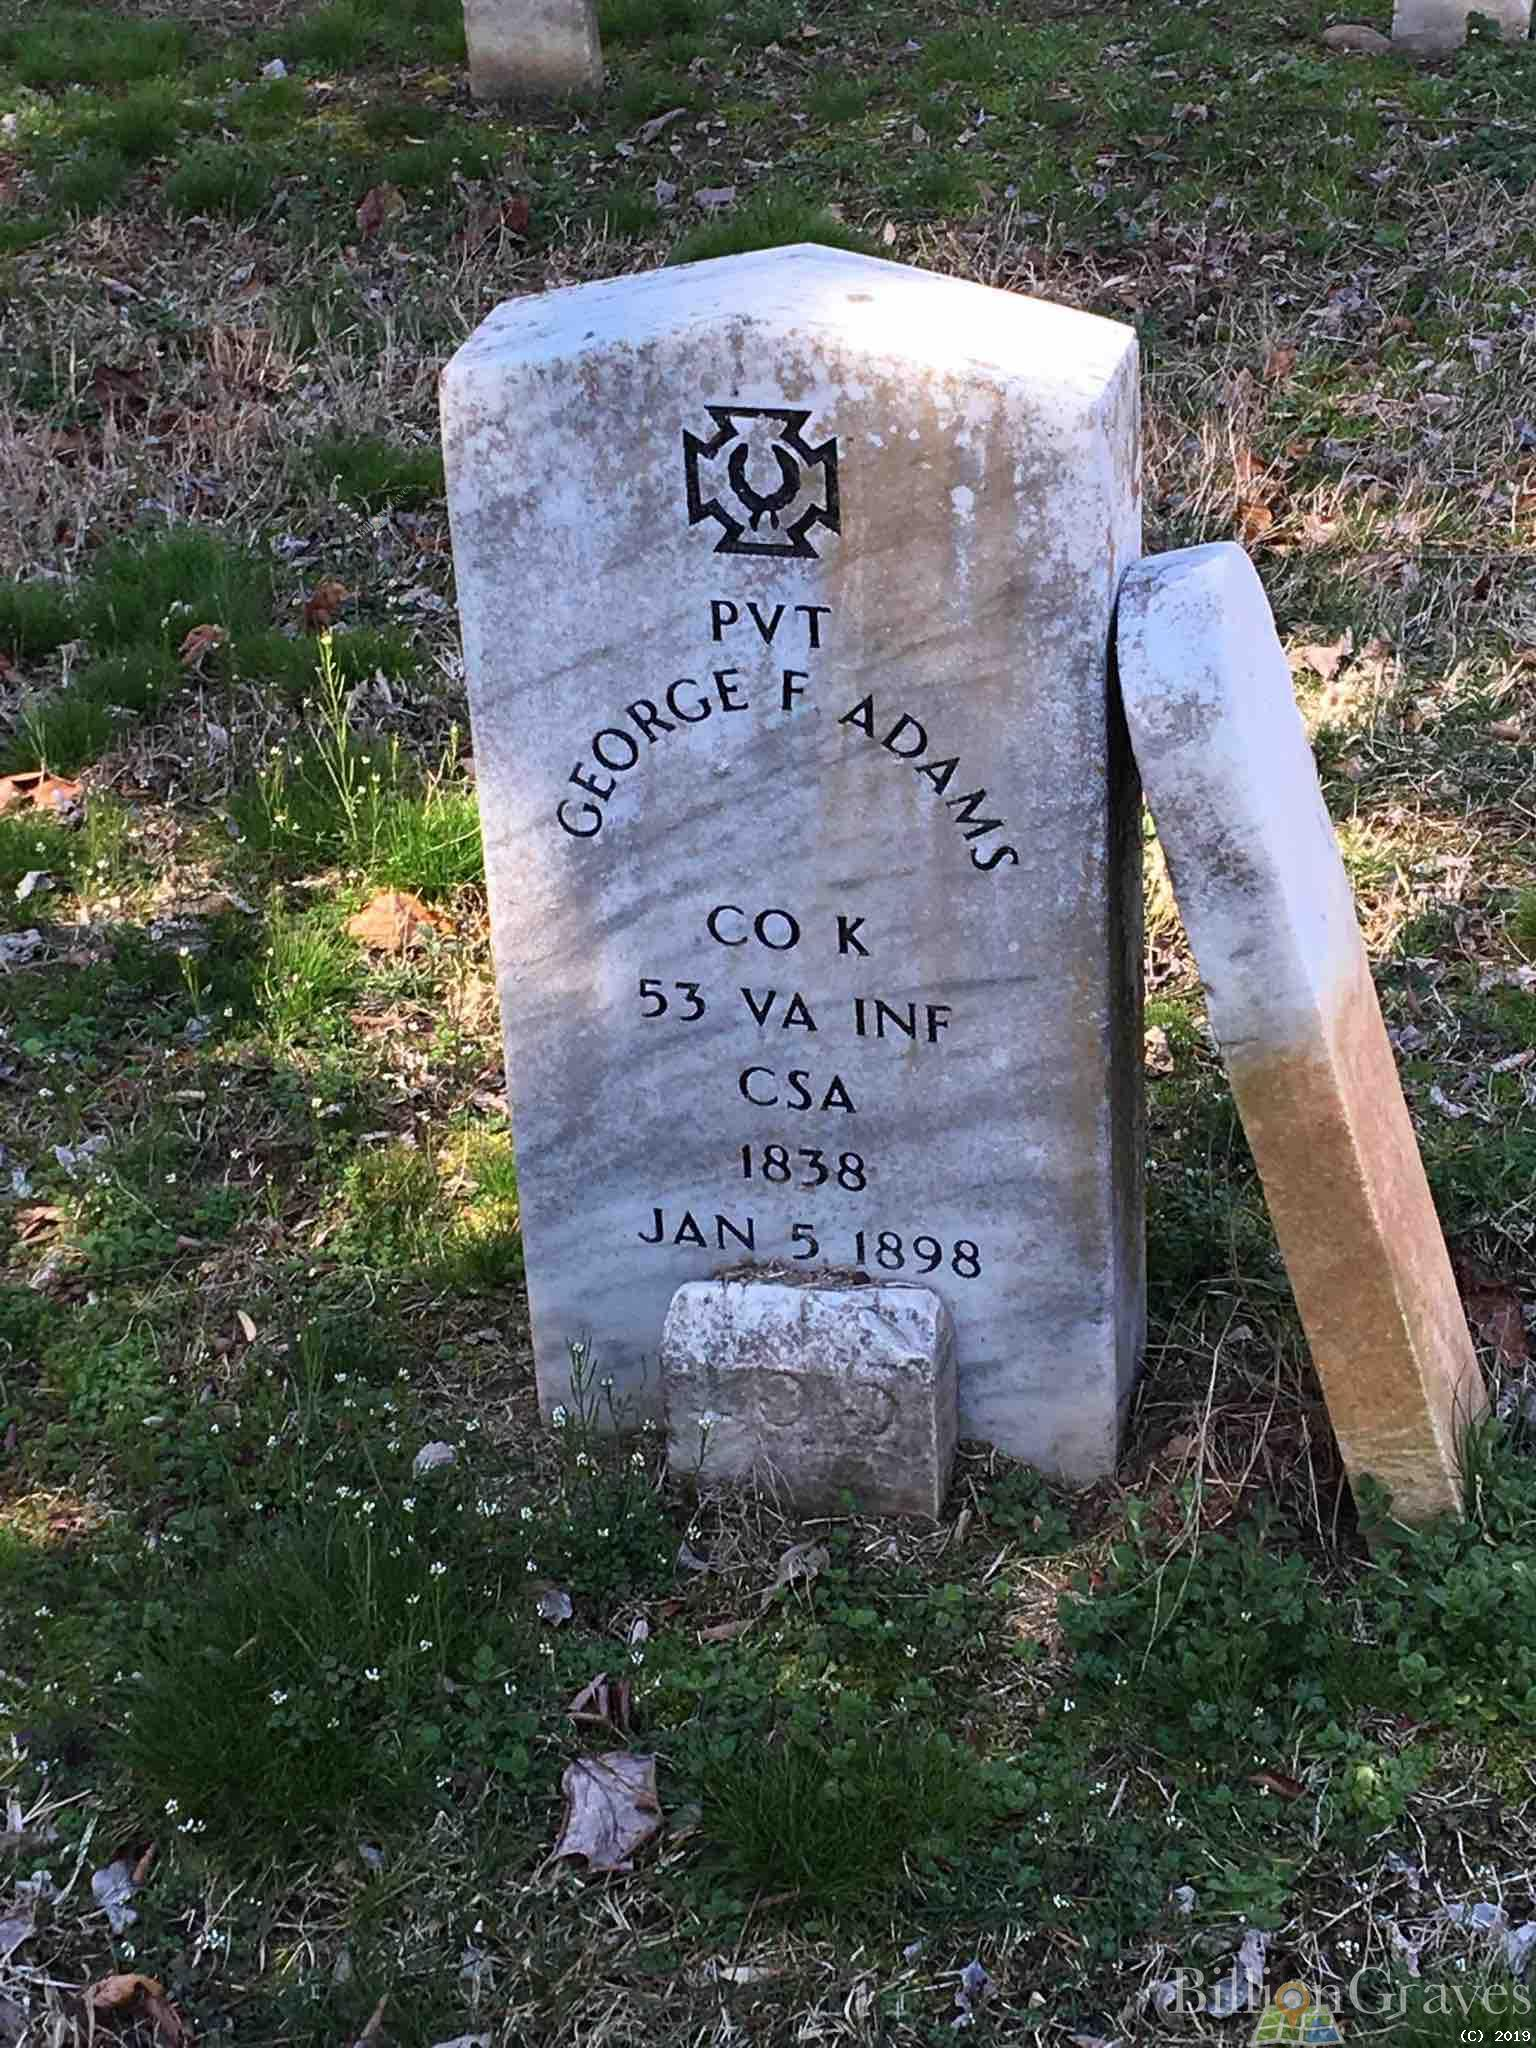military: (450, 240, 1141, 1484)
